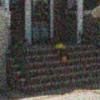stairs: (13, 41, 100, 95)
